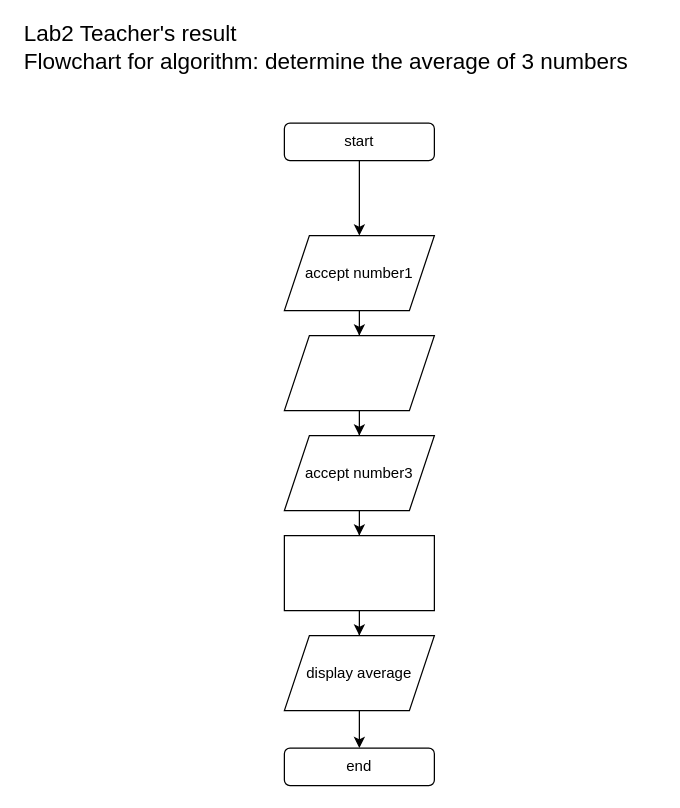
Image size: 680x808. Some labels were removed from this diagram. Here are the shapes that lost their labels. From the top down, the centre of each, then its label:
(358,372): accept number2
(358,572): average = ( number1 + number2 + number3 ) / 3
